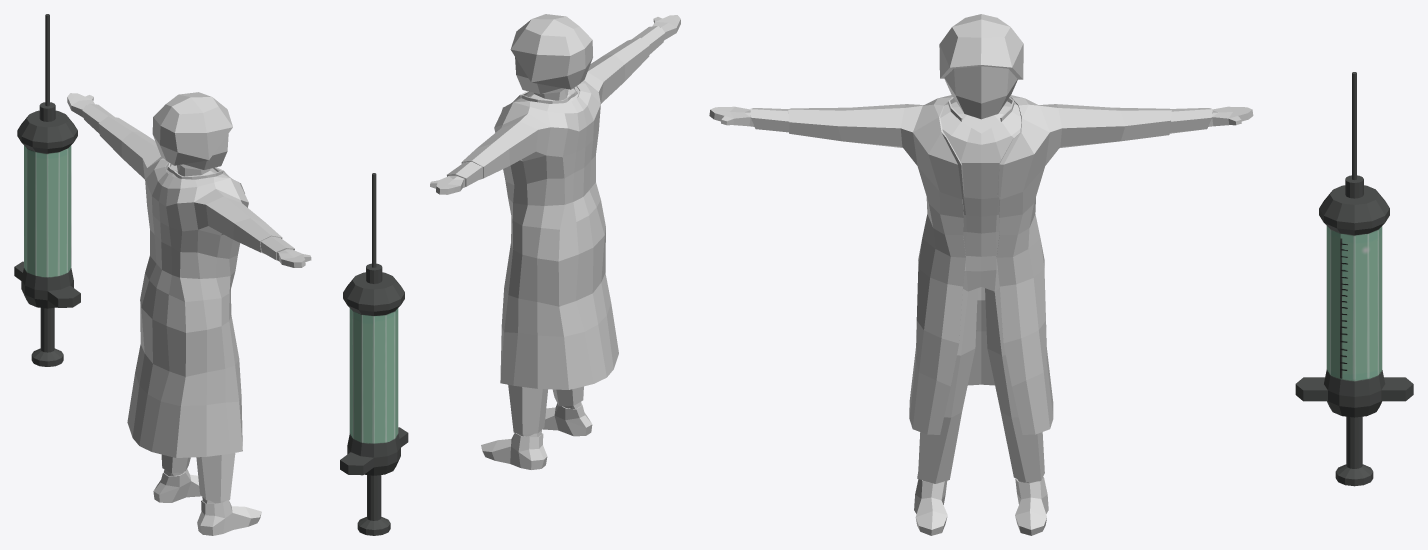
Rendered from Character.fbx.
3 renders of one model, left to right at view 1: azimuth 30°, elevation 25°; view 2: azimuth 150°, elevation 25°; view 3: azimuth 270°, elevation 25°, orthographic. The views are drawn at different scales.
Visible parts, largest first — view 1: Outfit2, Cylinder, Hair, Boots, Panths, Body, Outfit; view 2: Outfit2, Cylinder, Hair, Boots, Panths, Body, Outfit; view 3: Outfit2, Cylinder, Panths, Outfit, Body, Hair, Boots.
Boxes of the visible parts, <box> form: Outfit2: <box>98,116,282,457</box>; Cylinder: <box>14,14,80,366</box>; Hair: <box>152,92,232,165</box>; Boots: <box>153,469,261,535</box>; Panths: <box>161,453,235,500</box>; Body: <box>67,93,311,503</box>; Outfit: <box>82,103,294,261</box>; Outfit2: <box>461,37,649,389</box>; Cylinder: <box>340,173,408,535</box>; Hair: <box>510,14,592,89</box>; Boots: <box>481,403,592,469</box>; Panths: <box>508,384,583,434</box>; Body: <box>430,15,680,436</box>; Outfit: <box>447,26,665,187</box>; Outfit2: <box>788,95,1171,434</box>; Cylinder: <box>1295,72,1413,486</box>; Panths: <box>917,270,1044,483</box>; Outfit: <box>750,97,1212,271</box>; Body: <box>709,66,1253,483</box>; Hair: <box>939,14,1023,79</box>; Boots: <box>914,477,1048,535</box>.
Bounding box in the file's own units: 494 × 1943 × 2536.
Materials: 2 (1 with a texture image).
